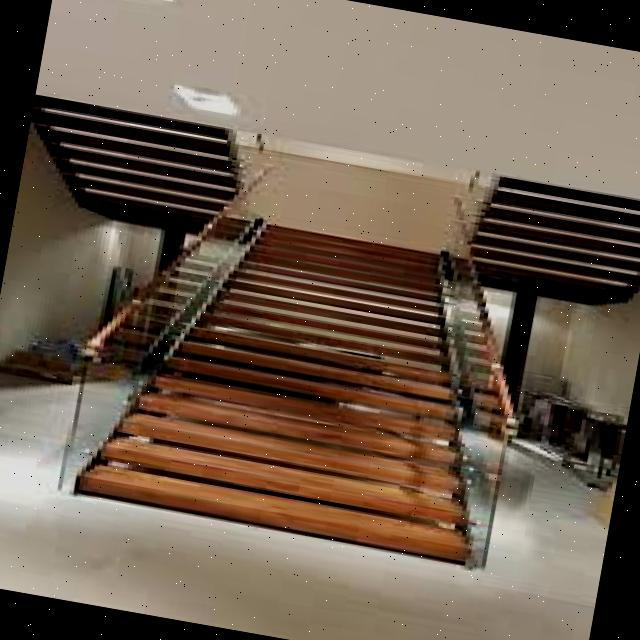stairs: (64, 194, 538, 568)
